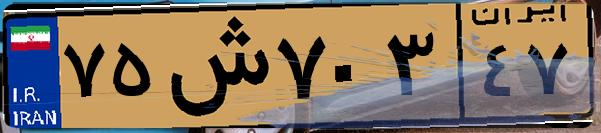0: (330, 28, 385, 110)
3: (385, 28, 445, 110)
4: (475, 38, 525, 113)
5: (110, 28, 158, 98)
7: (270, 28, 330, 110), (57, 26, 110, 100), (525, 38, 570, 115)
ش: (158, 12, 270, 120)
